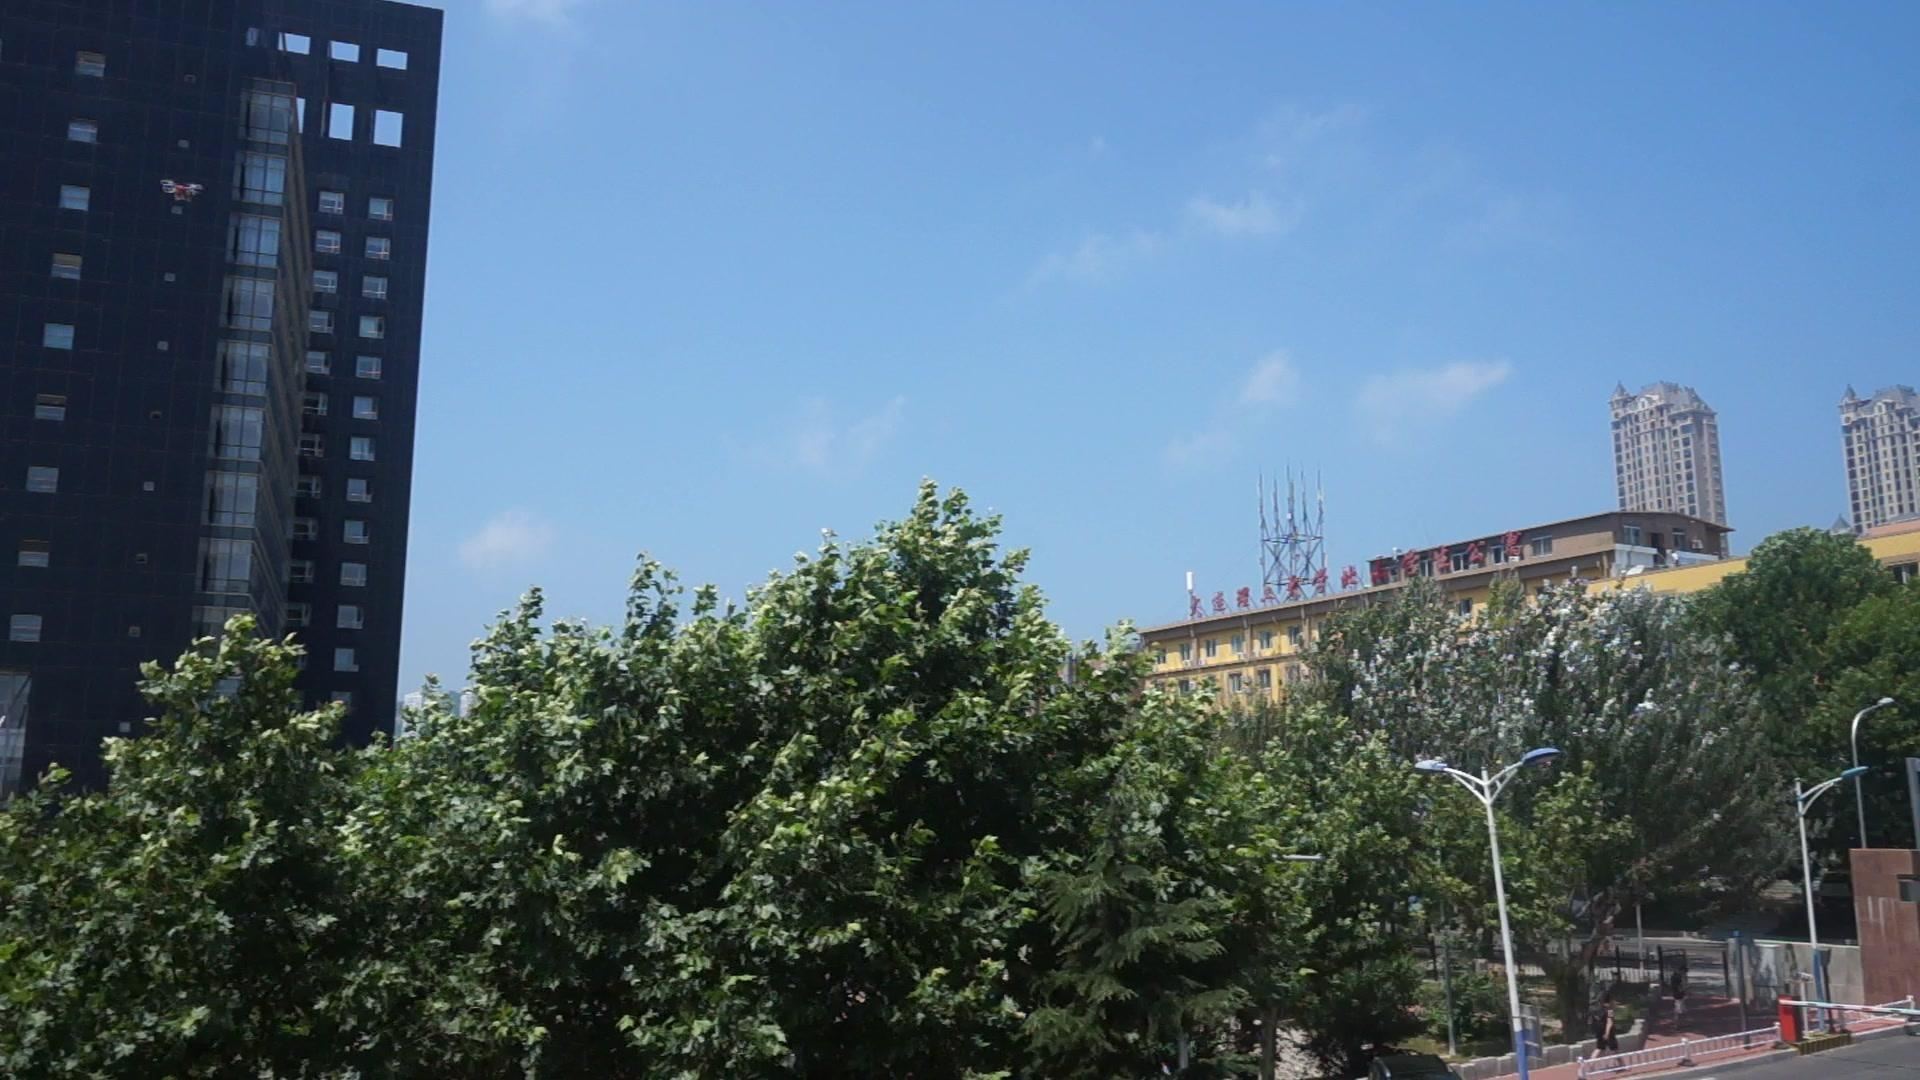UAV: (161, 179, 206, 204)
